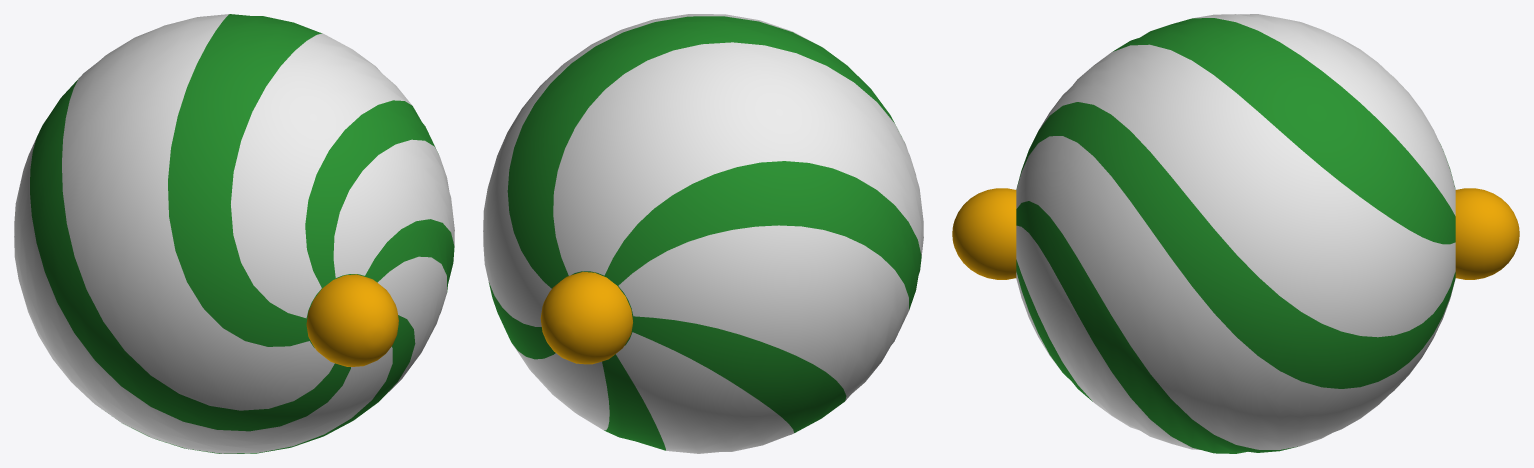
The model's file is CARAMELO 3.fbx.
The picture shows the model from 3 angles, left to right: view 1: azimuth 30°, elevation 25°; view 2: azimuth 150°, elevation 25°; view 3: azimuth 270°, elevation 25°; orthographic projection.
Visible parts, largest first — view 1: Caramelo 1; view 2: Caramelo 1; view 3: Caramelo 1.
Boxes of the visible parts, <box> form: Caramelo 1: <box>14,14,454,453</box>; Caramelo 1: <box>483,14,923,453</box>; Caramelo 1: <box>952,14,1519,453</box>.
Bounding box in the file's own units: 655 × 655 × 843.
